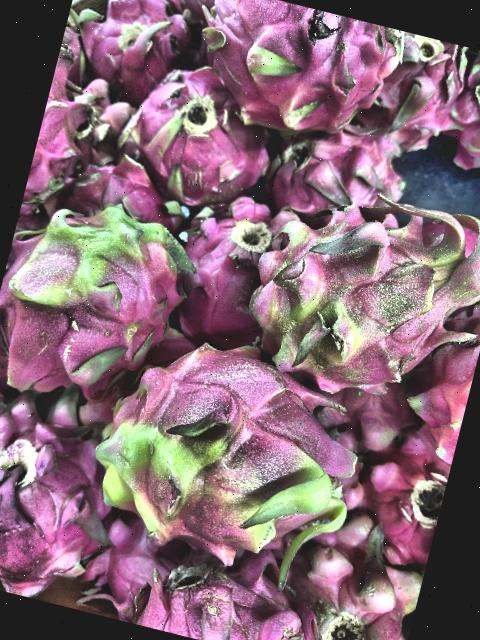buah-naga-belum-matang: (77, 312, 382, 588), (239, 167, 480, 410), (0, 178, 203, 413)
buah-naga-matang: (184, 0, 404, 142), (105, 49, 295, 210), (0, 392, 125, 608), (338, 397, 463, 591), (115, 533, 333, 640), (160, 182, 286, 342), (257, 113, 420, 234), (275, 539, 425, 640), (57, 0, 195, 106), (370, 30, 472, 160), (65, 154, 196, 240), (52, 75, 134, 158), (441, 47, 480, 178)
